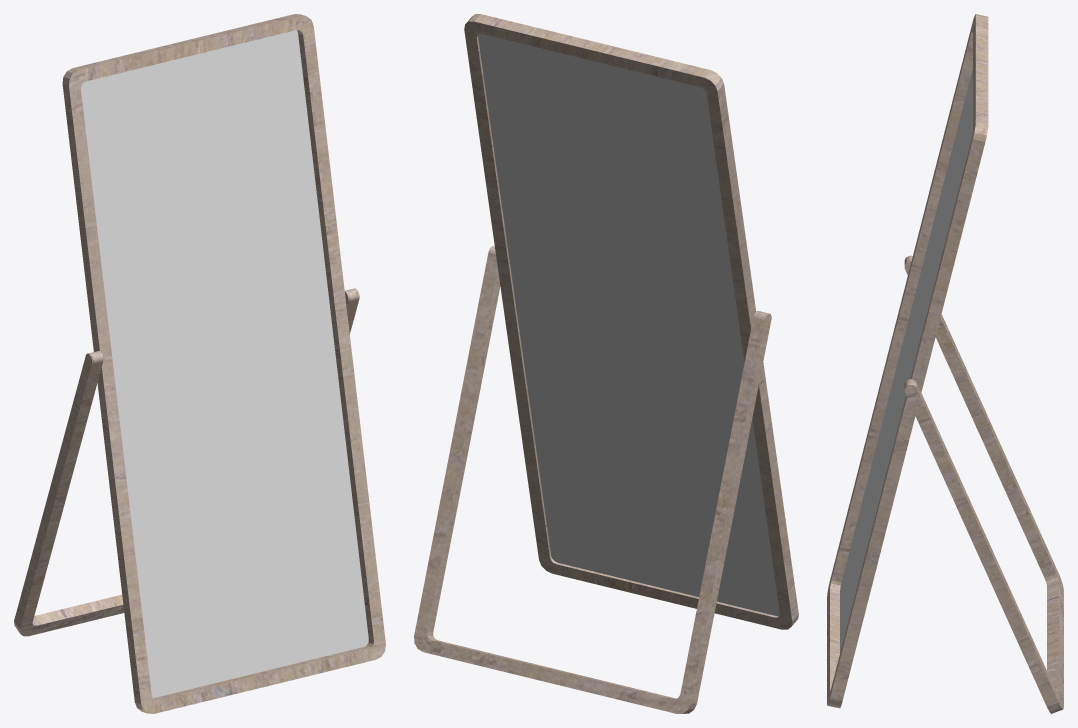
Rendered from Mirror1.fbx.
3 views of the same model, side by side, from view 1: azimuth 30°, elevation 25°; view 2: azimuth 150°, elevation 25°; view 3: azimuth 270°, elevation 25° (orthographic). The views are drawn at different scales.
Parts seen in each view (by area): view 1: Cube; view 2: Cube; view 3: Cube.
Part boxes in pixels (x1=…): Cube: x1=14, y1=14, x2=385, y2=713; Cube: x1=414, y1=14, x2=798, y2=713; Cube: x1=827, y1=14, x2=1063, y2=713.
Bounding box in the file's own units: 236 × 499 × 183.
